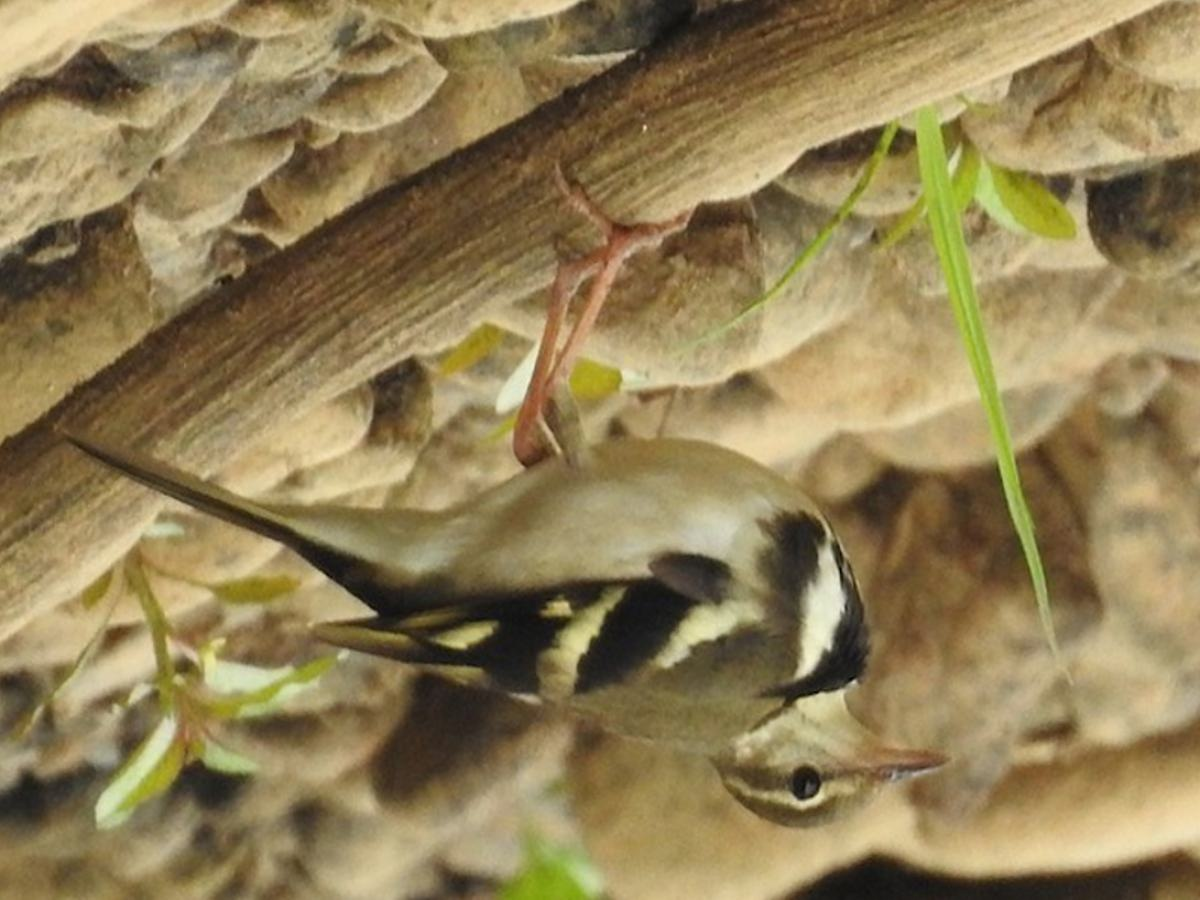wagtail: (148, 335, 945, 833)
